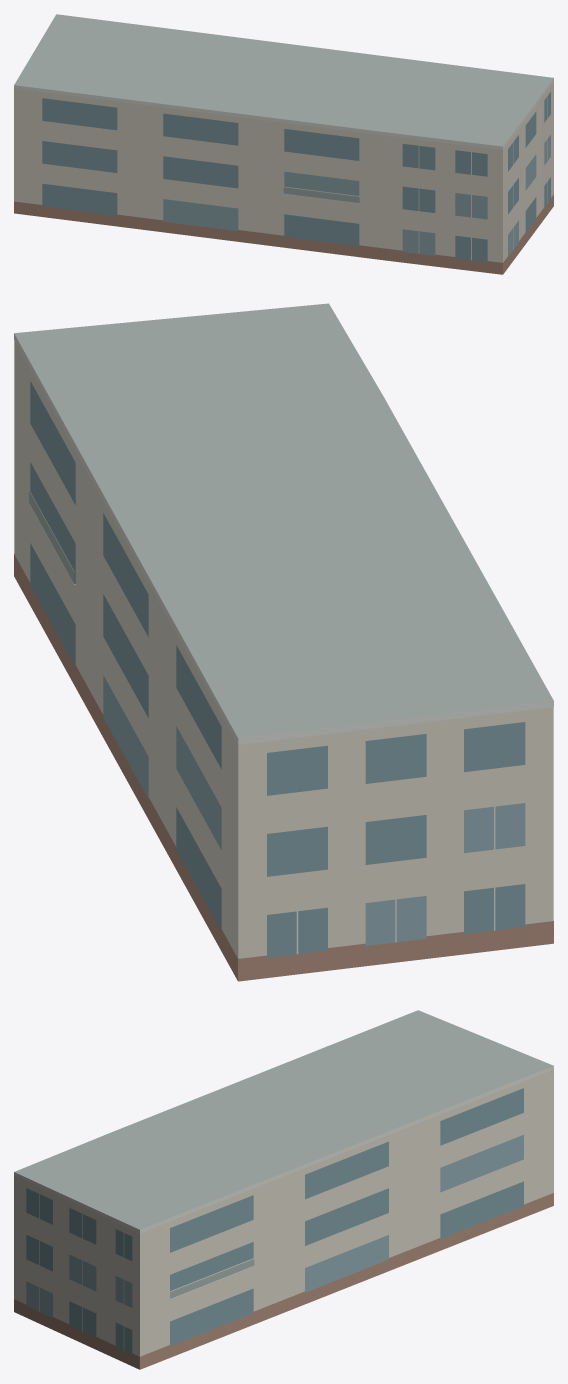
File: survey-upis-32761573.glb
3 views of the same model, one above another, from view 1: azimuth 30°, elevation 25°; view 2: azimuth 150°, elevation 25°; view 3: azimuth 270°, elevation 25° (orthographic). The views are drawn at different scales.
Visible parts, largest first — view 1: survey-upis-32761573.tmp; view 2: survey-upis-32761573.tmp; view 3: survey-upis-32761573.tmp.
Part boxes in pixels (x1,y1,x2,y2): survey-upis-32761573.tmp: (14, 14, 553, 274); survey-upis-32761573.tmp: (14, 303, 553, 981); survey-upis-32761573.tmp: (14, 1010, 553, 1369).
Bounding box in the file's own units: 30.79 × 9.15 × 31.98.
